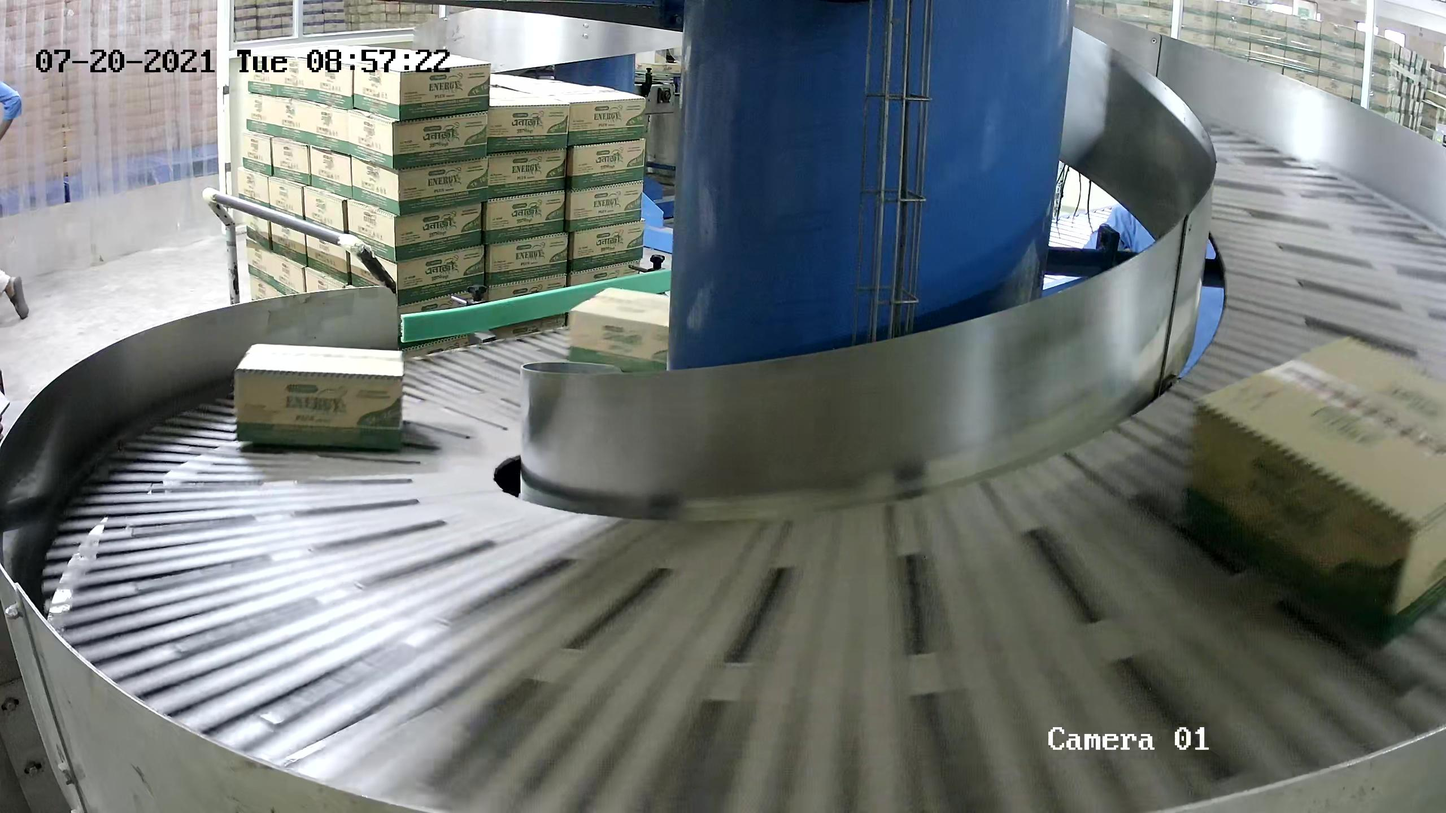Box: (1183, 334, 1446, 658), (233, 343, 404, 454), (567, 286, 707, 386)
